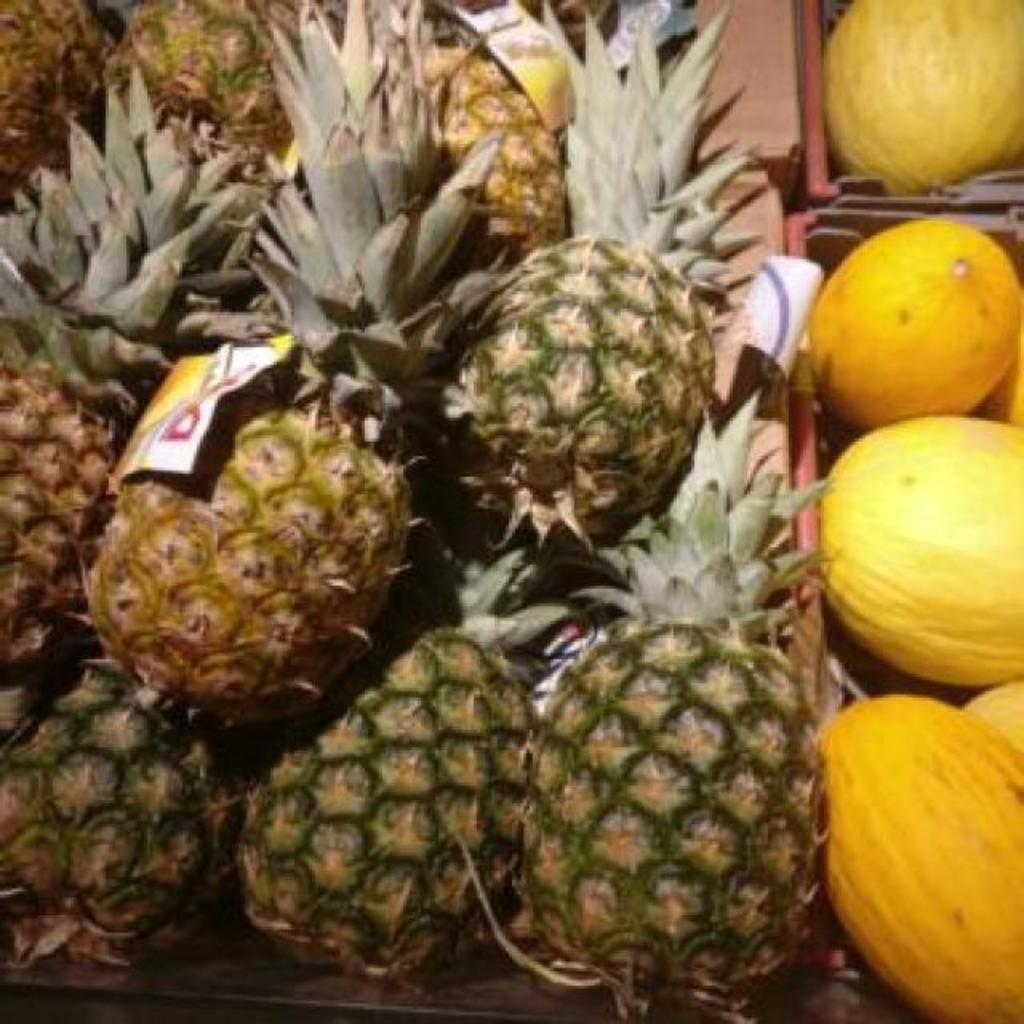pineapple: (90, 0, 502, 723), (522, 400, 816, 1007), (0, 74, 260, 735), (460, 14, 750, 541), (238, 531, 570, 975), (0, 662, 232, 957), (442, 0, 570, 231), (108, 0, 294, 153), (0, 0, 104, 201)
